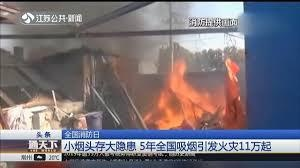fire: (143, 55, 251, 129)
